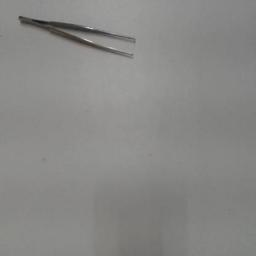Gillies Toothed Dissector: (16, 10, 140, 66)
